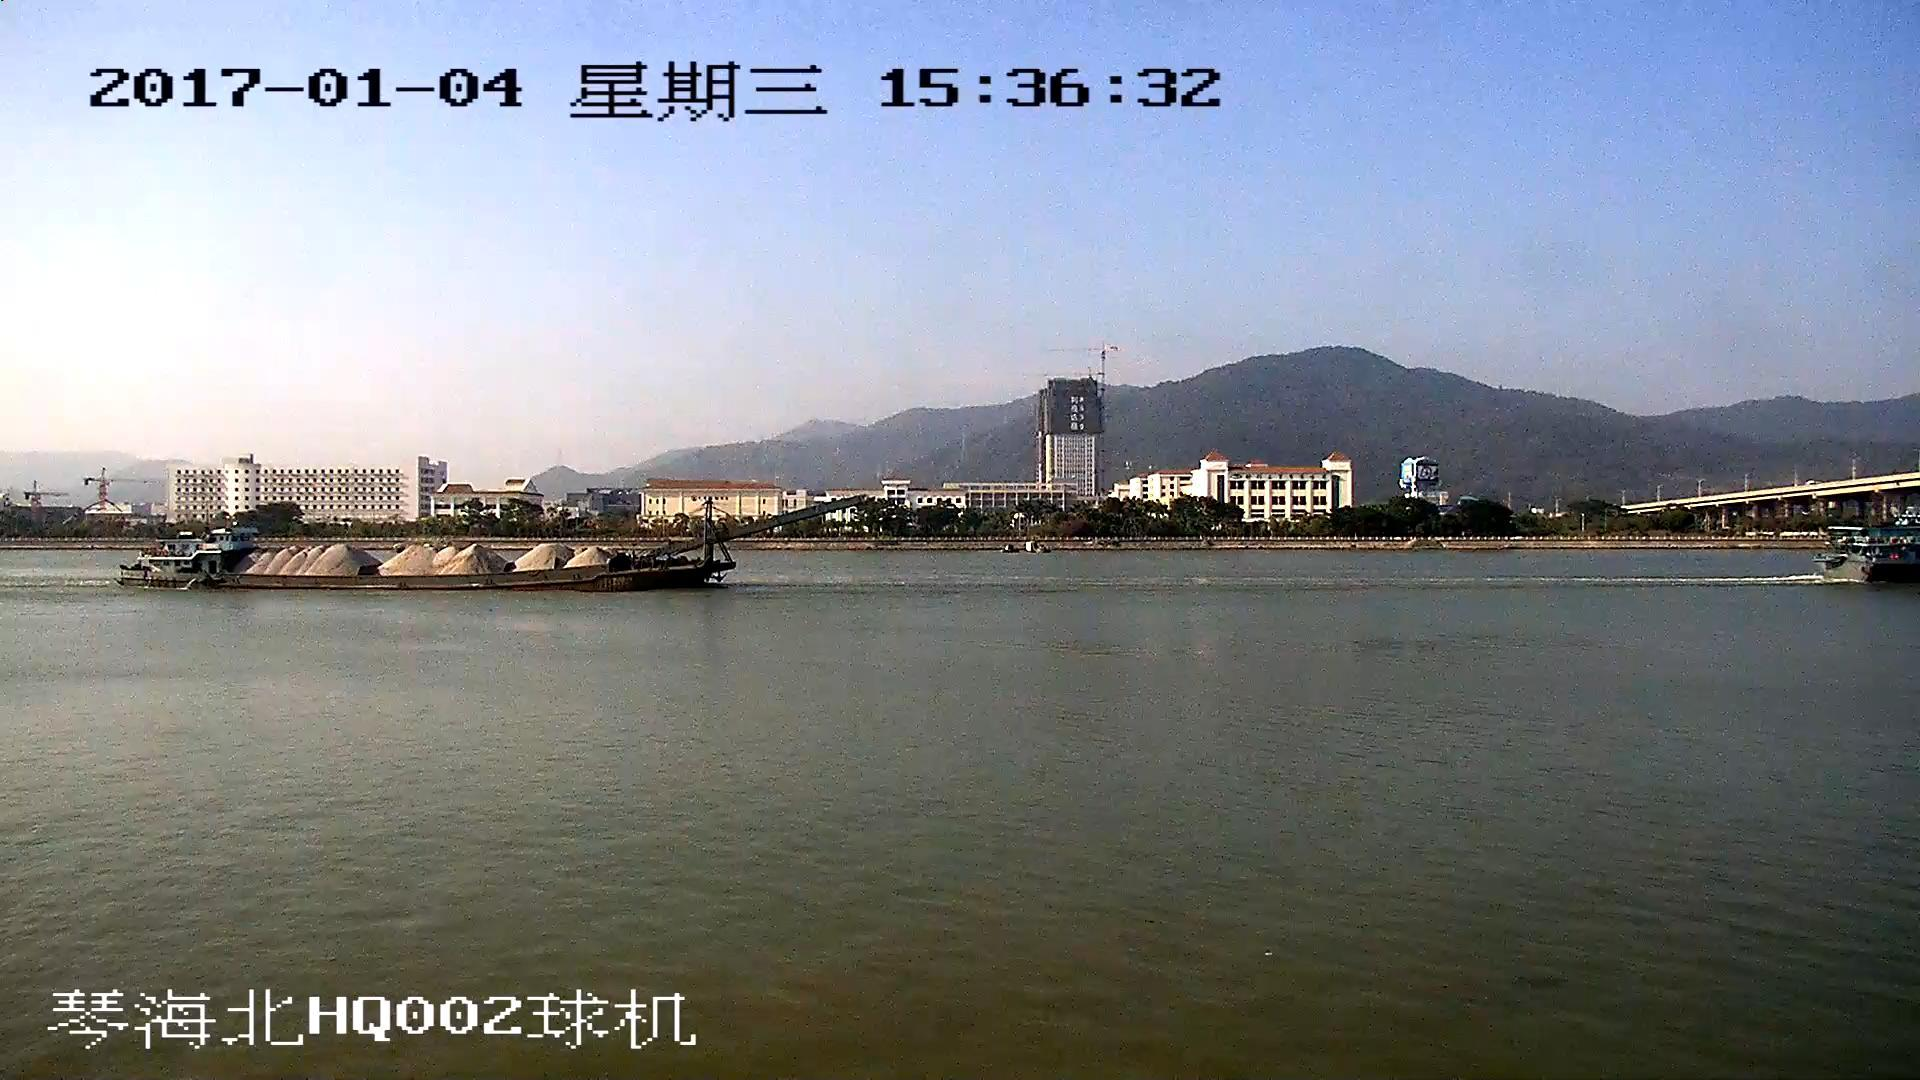Ship: (117, 492, 860, 592)
